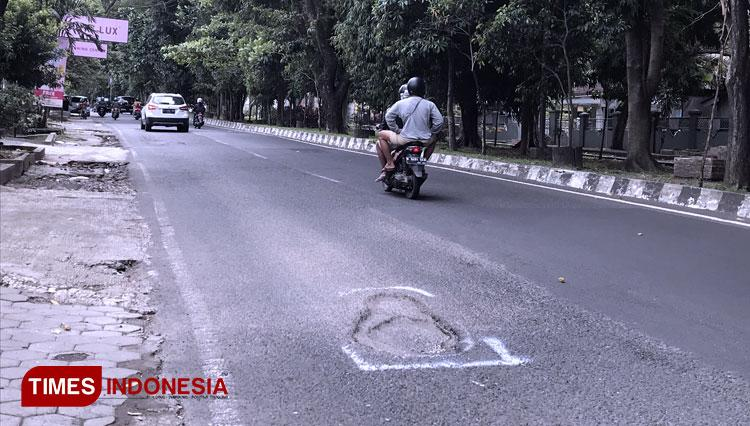Pothole: (329, 283, 483, 372)
